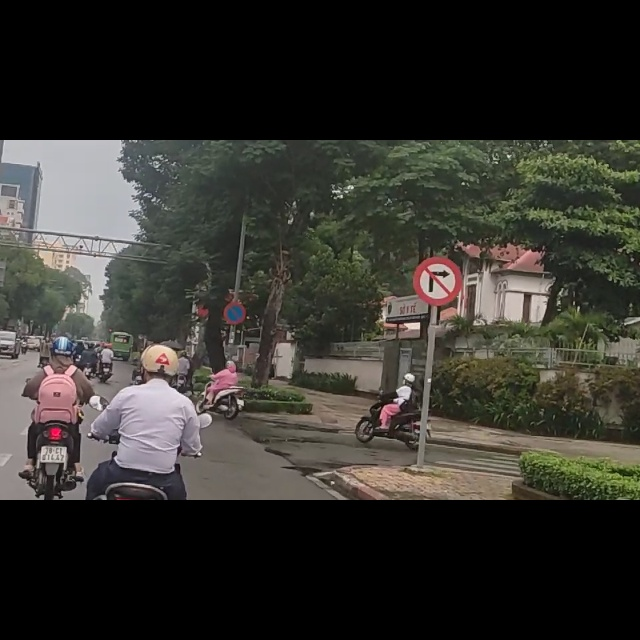bien_cam: (412, 210, 462, 289), (223, 286, 247, 328)
